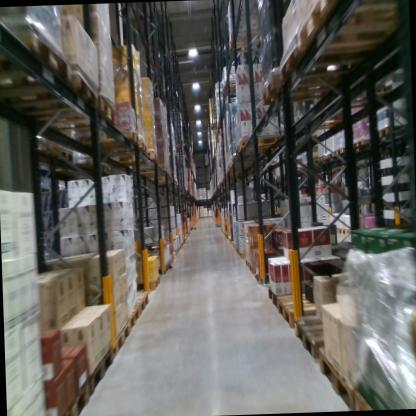pallet: (292, 0, 409, 53), (0, 72, 103, 126), (0, 24, 74, 94), (280, 41, 372, 86), (32, 91, 119, 133), (315, 340, 364, 411), (260, 68, 340, 109), (276, 290, 334, 335), (294, 313, 332, 366), (73, 126, 142, 154), (89, 343, 118, 401), (57, 380, 95, 416), (226, 28, 264, 61), (111, 315, 132, 361), (96, 140, 147, 158), (238, 134, 285, 153), (109, 151, 159, 167), (352, 386, 382, 411), (131, 272, 162, 296), (234, 144, 270, 161), (133, 287, 151, 318), (50, 144, 76, 165), (126, 301, 142, 335), (254, 265, 278, 285), (267, 283, 281, 314), (141, 240, 168, 256), (222, 79, 240, 102), (351, 135, 374, 151), (377, 125, 393, 145), (136, 166, 171, 174), (149, 262, 170, 275), (342, 141, 353, 157), (245, 253, 251, 272), (238, 249, 249, 259), (250, 261, 256, 278), (334, 147, 344, 157), (326, 150, 334, 162), (337, 162, 347, 171), (346, 229, 354, 239), (339, 226, 347, 236), (319, 151, 326, 161), (166, 258, 173, 268), (333, 166, 340, 174), (236, 245, 241, 254)
pallet_truck: (213, 196, 224, 228)
